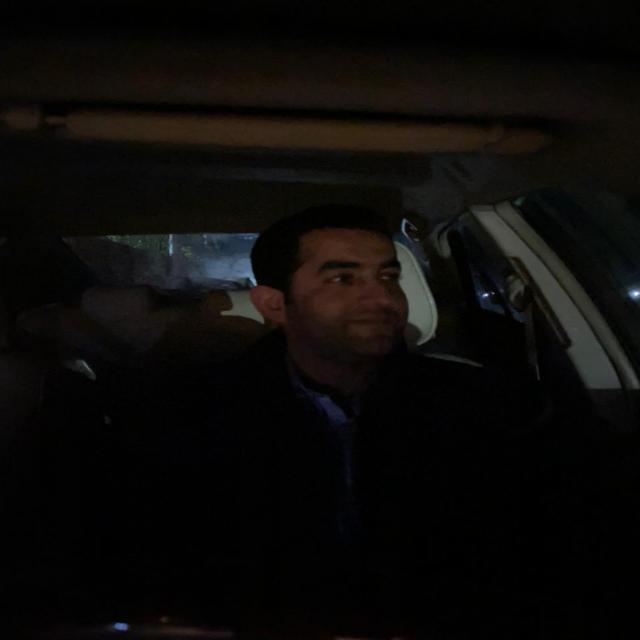person: (239, 214, 414, 354)
